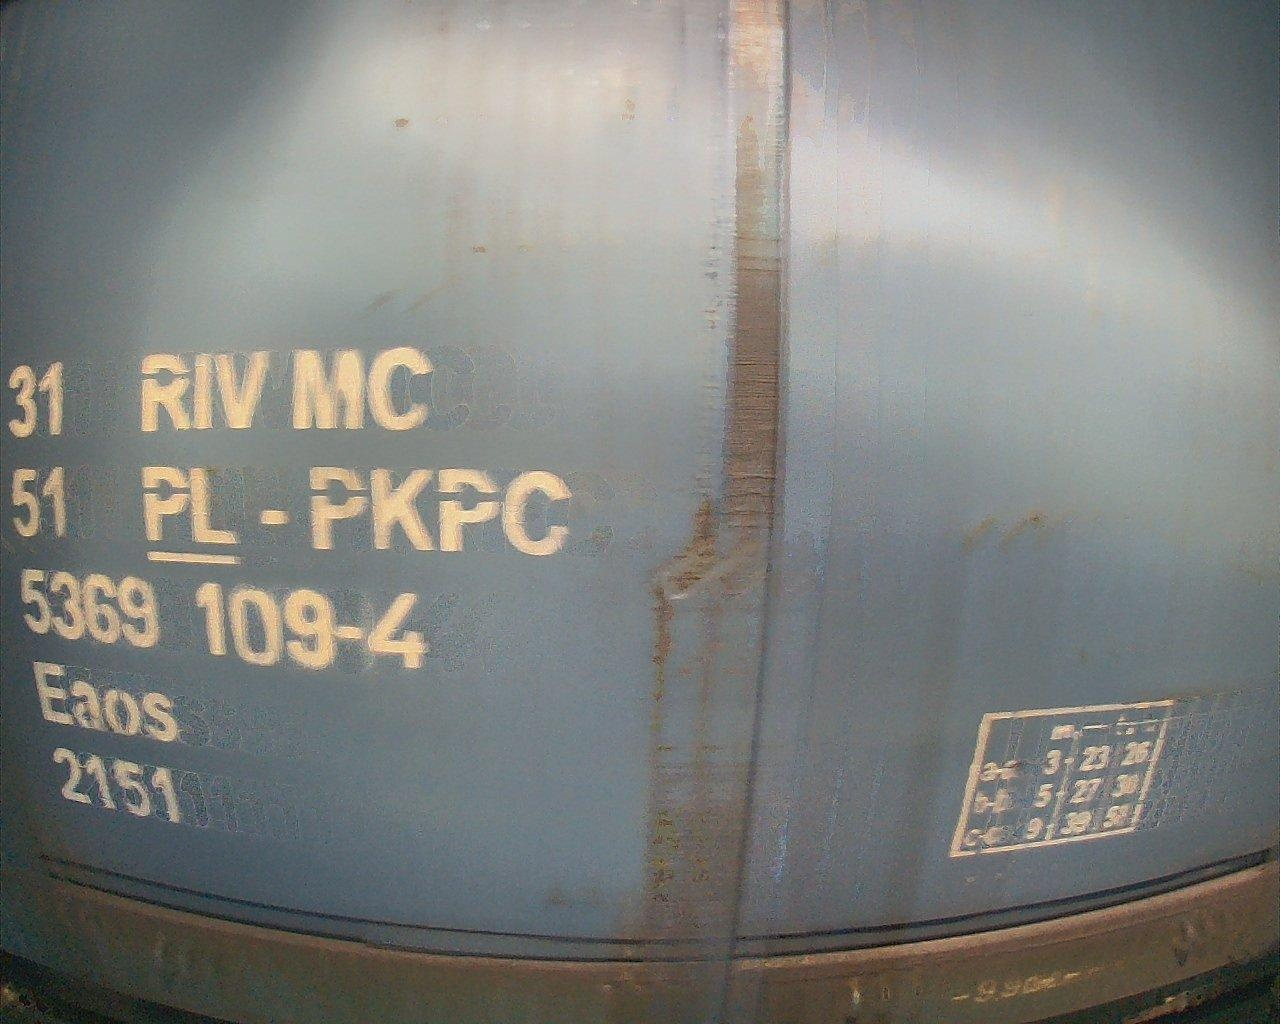UIC: (1, 340, 581, 830)
